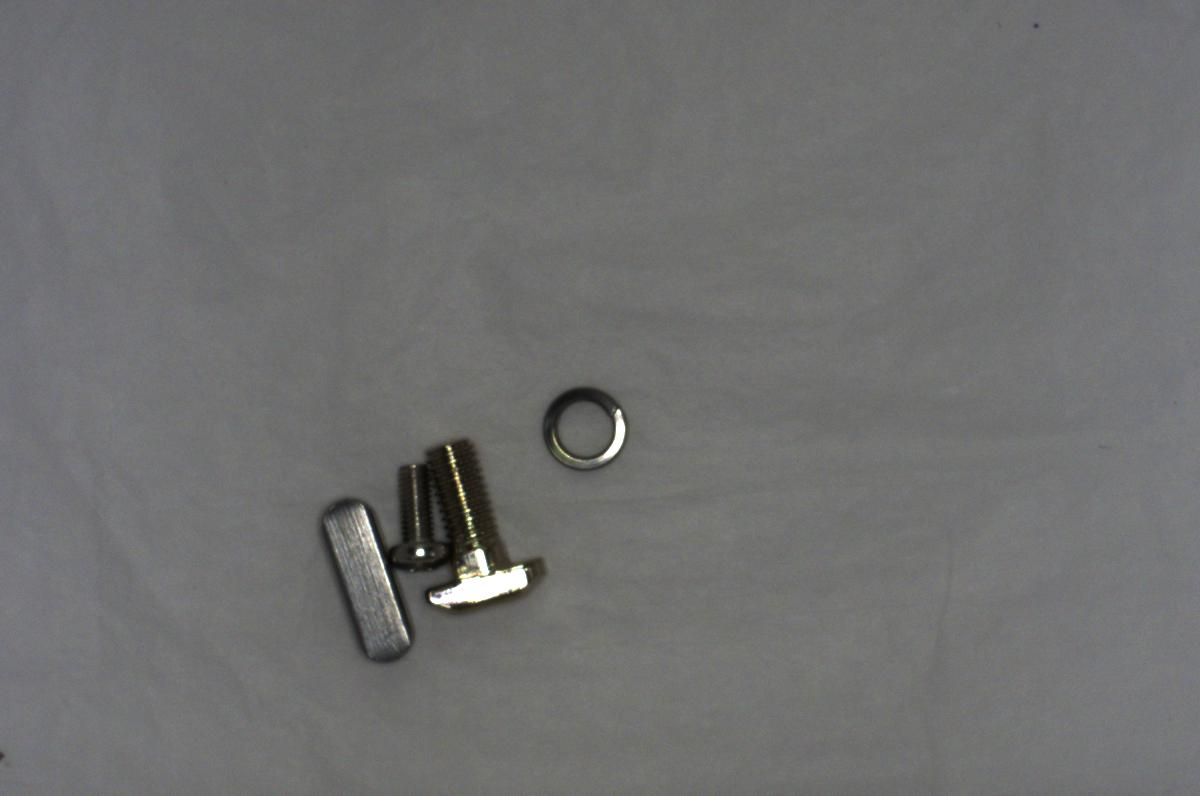Keybar: (311, 493, 415, 667)
Round head screw: (378, 452, 452, 578)
Spring washer: (532, 370, 647, 485)
T-shaped screw: (410, 427, 559, 615)
